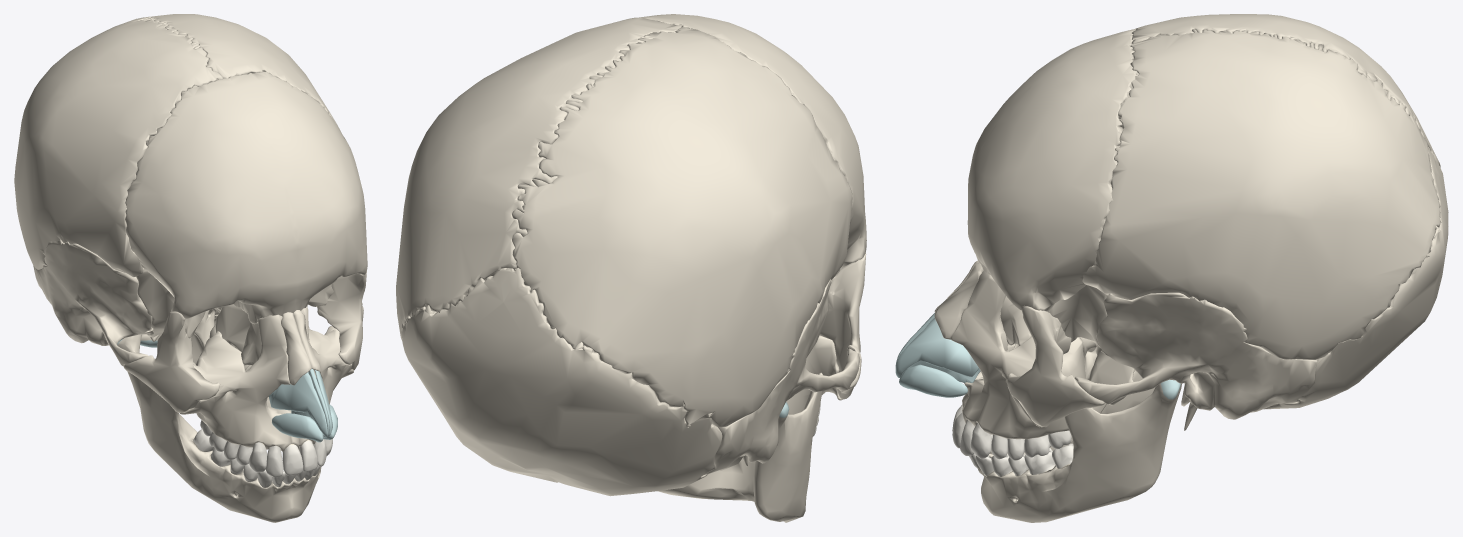
File: skull.glb
3 views of the same model, side by side, from view 1: azimuth 30°, elevation 25°; view 2: azimuth 150°, elevation 25°; view 3: azimuth 270°, elevation 25° (orthographic). The views are drawn at different scales.
Parts seen in each view (by area): view 1: Frontal bone, Parietal bone (right), Temporal bone (right), Maxilla (right), Mandible, Parietal bone (left), Zygomatic bone (right), Sphenoid bone, Zygomatic bone (left), Maxilla (left), Lateral process of nasal septal cartilage (right), Nasal bone (right) (+8 smaller); view 2: Parietal bone (right), Occipital bone, Parietal bone (left), Frontal bone, Mandible, Temporal bone (right), Zygomatic bone (right), Maxilla (right); view 3: Parietal bone (left), Frontal bone, Temporal bone (left), Mandible, Maxilla (left), Occipital bone, Parietal bone (right), Zygomatic bone (left), Sphenoid bone, Lateral process of nasal septal cartilage (left), Major alar cartilage (left), Nasal bone (left) (+1 smaller).
Part boxes in pixels (x1,y1,x2,y2): Frontal bone: [125, 71, 367, 324]; Parietal bone (right): [14, 17, 223, 277]; Temporal bone (right): [33, 239, 153, 366]; Maxilla (right): [179, 314, 299, 451]; Mandible: [117, 304, 321, 522]; Parietal bone (left): [137, 14, 355, 162]; Zygomatic bone (right): [123, 311, 220, 412]; Sphenoid bone: [136, 269, 333, 364]; Zygomatic bone (left): [317, 270, 366, 370]; Maxilla (left): [291, 306, 353, 446]; Lateral process of nasal septal cartilage (right): [269, 372, 327, 436]; Nasal bone (right): [281, 312, 311, 385]; Parietal bone (right): [512, 26, 852, 427]; Occipital bone: [401, 268, 722, 496]; Parietal bone (left): [396, 17, 681, 340]; Frontal bone: [639, 14, 866, 267]; Mandible: [658, 372, 822, 522]; Temporal bone (right): [704, 278, 860, 474]; Zygomatic bone (right): [819, 252, 866, 399]; Maxilla (right): [786, 335, 842, 414]; Parietal bone (left): [1082, 29, 1441, 359]; Frontal bone: [967, 29, 1138, 311]; Temporal bone (left): [1074, 292, 1317, 430]; Mandible: [978, 370, 1181, 522]; Maxilla (left): [951, 270, 1086, 439]; Occipital bone: [1264, 147, 1448, 409]; Parietal bone (right): [1123, 14, 1440, 167]; Zygomatic bone (left): [1006, 306, 1104, 426]; Sphenoid bone: [1047, 285, 1134, 405]; Lateral process of nasal septal cartilage (left): [895, 318, 978, 377]; Major alar cartilage (left): [899, 364, 967, 397]; Nasal bone (left): [934, 263, 983, 339].
Bounding box in the file's own units: 0.1487 × 0.2092 × 0.2191.
